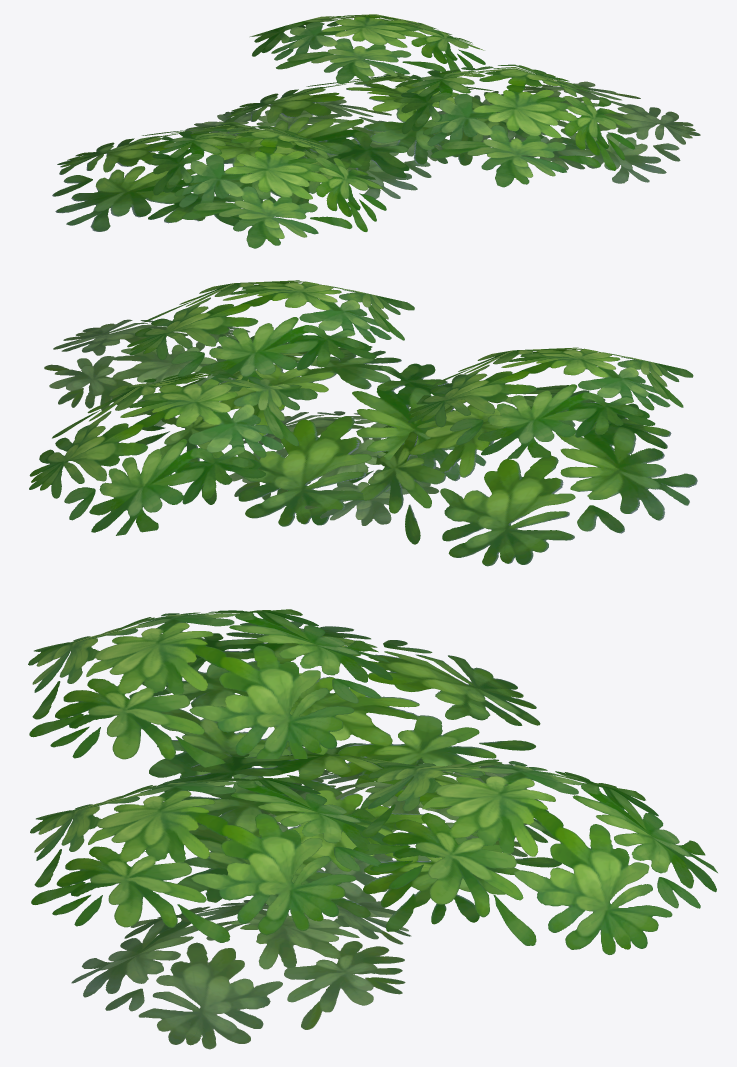
File: Scene_cao_009.FBX
The picture shows the model from 3 angles, top to bottom: view 1: azimuth 30°, elevation 25°; view 2: azimuth 150°, elevation 25°; view 3: azimuth 270°, elevation 25°; orthographic projection. The views are drawn at different scales.
Parts seen in each view (by area): view 1: Scene_cao_009; view 2: Scene_cao_009; view 3: Scene_cao_009.
Part boxes in pixels (x1=…): Scene_cao_009: x1=52, y1=14, x2=700, y2=248; Scene_cao_009: x1=29, y1=280, x2=697, y2=566; Scene_cao_009: x1=28, y1=609, x2=717, y2=1049.
Size of the model in its own units: 200 by 26.28 by 146.
